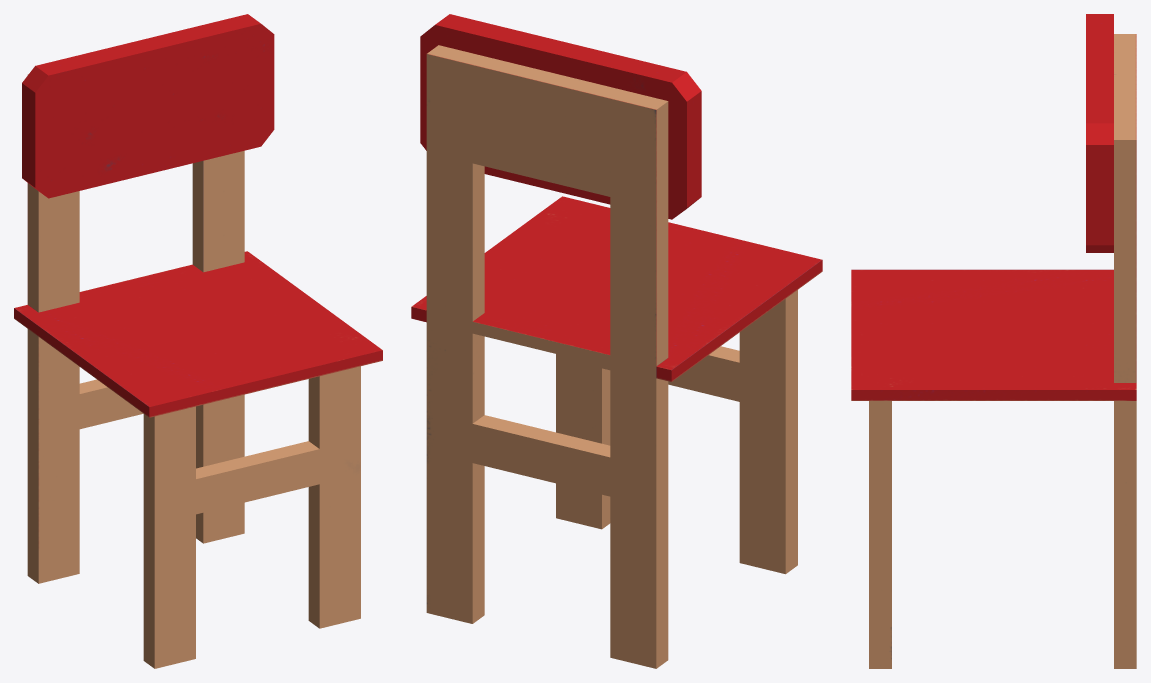
Rendered from ENV_Chair_Style2_red_v000.fbx.
3 views of the same model, side by side, from view 1: azimuth 30°, elevation 25°; view 2: azimuth 150°, elevation 25°; view 3: azimuth 270°, elevation 25° (orthographic). The views are drawn at different scales.
Visible parts, largest first — view 1: pCube2; view 2: pCube2; view 3: pCube2.
Part boxes in pixels (<box>): pCube2: <box>14,14,382,668</box>; pCube2: <box>411,14,822,668</box>; pCube2: <box>851,14,1136,668</box>.
Bounding box in the file's own units: 0.5515 × 1.14 × 0.5407.
